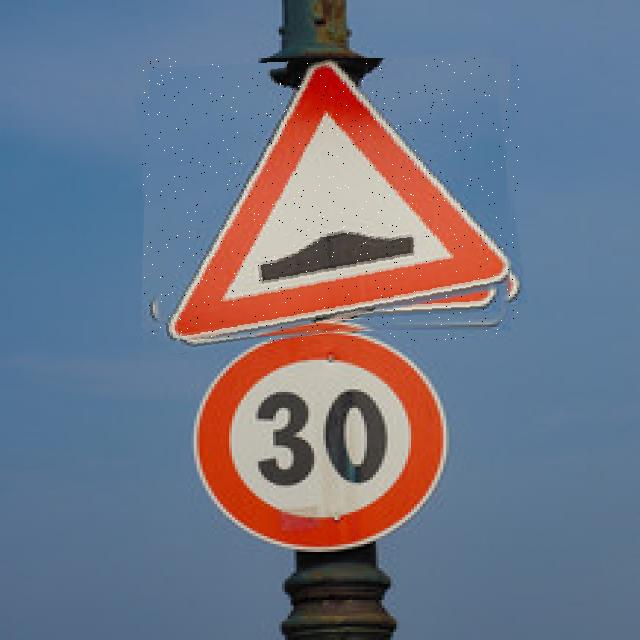hump: (142, 58, 519, 343)
